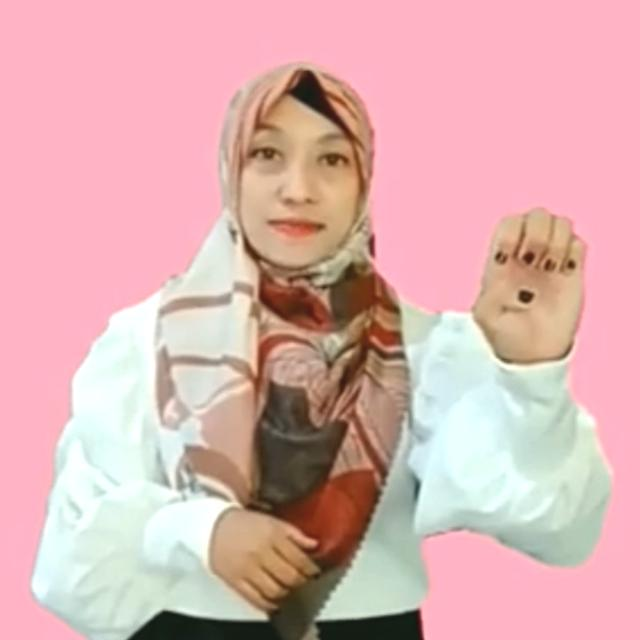E: (467, 205, 593, 349)
